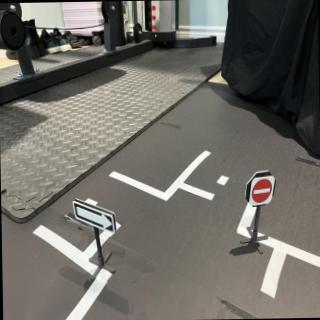sign_noentry: (247, 175, 277, 208)
sign_oneway_right: (74, 197, 118, 237)
